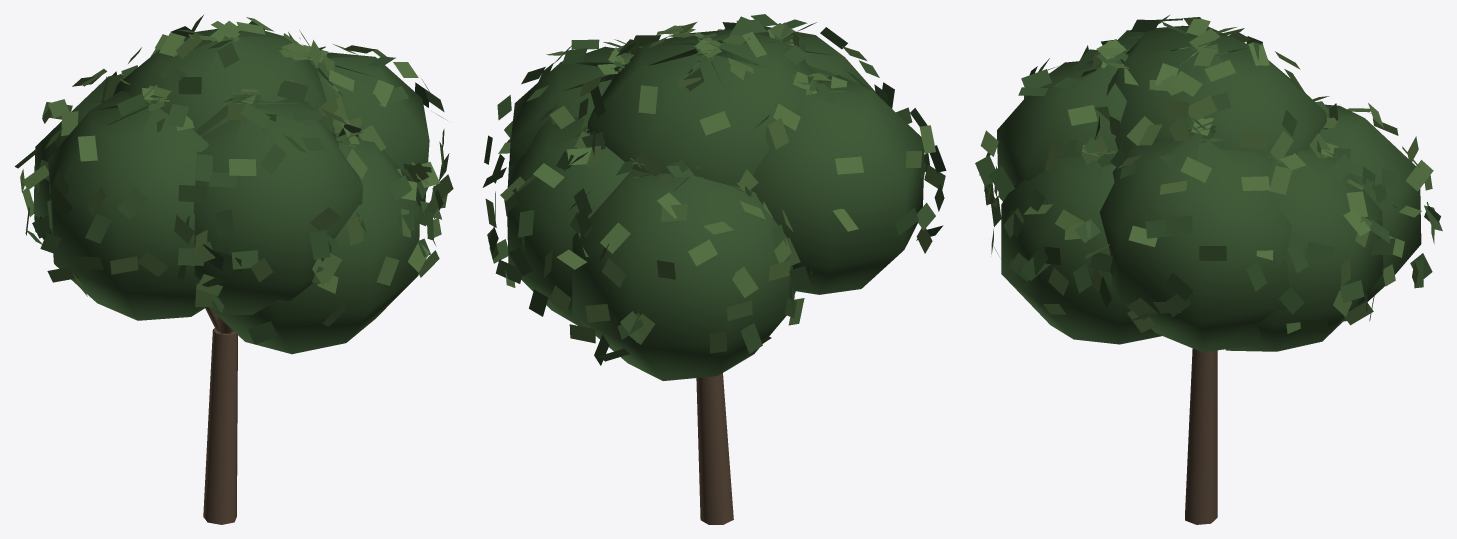
The model's file is broadleaf.glb.
The picture shows the model from 3 angles, left to right: view 1: azimuth 30°, elevation 25°; view 2: azimuth 150°, elevation 25°; view 3: azimuth 270°, elevation 25°; orthographic projection.
Visible parts, largest first — view 1: broadleaf-broadleaf, broadleaf-broadleaf-light, broadleaf-tree-bark; view 2: broadleaf-broadleaf, broadleaf-broadleaf-light, broadleaf-tree-bark; view 3: broadleaf-broadleaf, broadleaf-broadleaf-light, broadleaf-tree-bark.
Part boxes in pixels (x1,y1,x2,y2): broadleaf-broadleaf: (25, 21, 447, 354); broadleaf-broadleaf-light: (15, 15, 453, 326); broadleaf-tree-bark: (203, 307, 237, 524); broadleaf-broadleaf: (482, 14, 946, 380); broadleaf-broadleaf-light: (485, 20, 945, 353); broadleaf-tree-bark: (696, 373, 733, 524); broadleaf-broadleaf: (975, 18, 1442, 352); broadleaf-broadleaf-light: (980, 14, 1434, 333); broadleaf-tree-bark: (1185, 348, 1217, 524).
Size of the model in its own units: 5.52 by 6.3 by 5.45.
